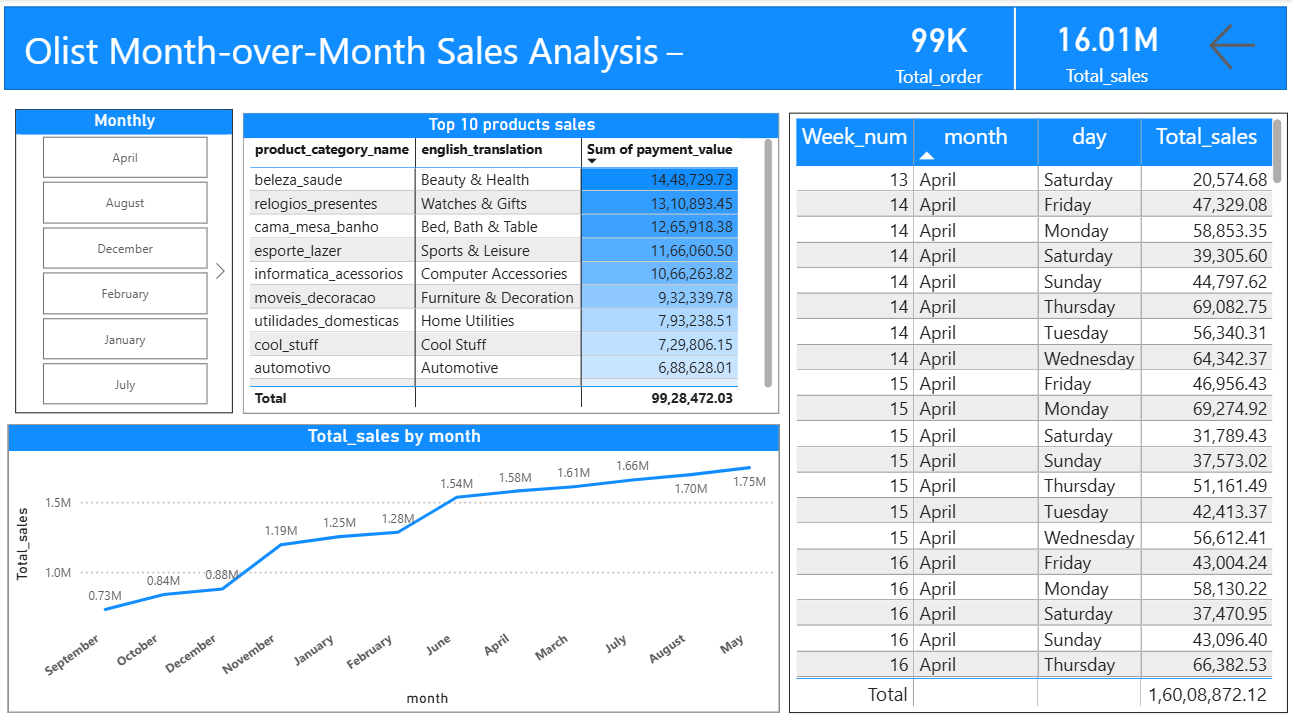

What the dashboard file says about the page in this screenshot:
{"tool":"powerbi","page":{"name":"MOM Analysis","canvas":[1280,720],"ordinal":3},"visuals":[{"type":"shape","box":[10.2,7.3,1254.9,81.6],"z":0},{"type":"tableEx","fields":{"Values":["olist_orders_dataset.Week_num","olist_orders_dataset.month","olist_orders_dataset.day","calculations.Total_sales"]},"box":[778.3,110.8,488.3,587.4],"z":1000},{"type":"lineChart","fields":{"Category":["olist_orders_dataset.month"],"Y":["calculations.Total_sales"]},"box":[13.1,415.4,755,282.8],"z":2000},{"type":"slicer","title":"Monthly","fields":{"Values":["olist_orders_dataset.month"]},"box":[20.4,107.9,212.8,297.3],"z":3000},{"type":"tableEx","title":"Top 10 products sales","fields":{"Values":["olist_products_dataset.product_category_name","translated products.english_translation","Sum(olist_order_payments_dataset.payment_value)"]},"box":[243.4,110.8,524.7,294.4],"z":4000},{"type":"card","fields":{"Values":["calculations.Total_sales"]},"box":[1013,7.3,153,81.6],"z":5000},{"type":"card","fields":{"Values":["calculations.Total_order"]},"box":[829.3,8.7,190.9,81.6],"z":6000},{"type":"shape","box":[985.3,8.7,26.2,80.2],"z":7000},{"type":"shape","box":[657.4,42.3,16,21.9],"z":8000},{"type":"actionButton","box":[1183.5,18.9,62.7,56.8],"z":9000}]}

Visuals, with their boxes in screenshot pixels (x1, y1, x2, y2), scaled from the page's 1280x720 canvas onto the 1292x717 screenshot:
shape: [10,7,1277,89]
tableEx - olist_orders_dataset.Week_num x olist_orders_dataset.month: [786,110,1278,695]
lineChart - olist_orders_dataset.month x calculations.Total_sales: [13,414,775,695]
"Monthly" slicer: [21,107,235,404]
"Top 10 products sales" tableEx: [246,110,775,404]
card - calculations.Total_sales: [1022,7,1177,89]
card - calculations.Total_order: [837,9,1030,90]
shape: [995,9,1021,89]
shape: [664,42,680,64]
actionButton: [1195,19,1258,75]
